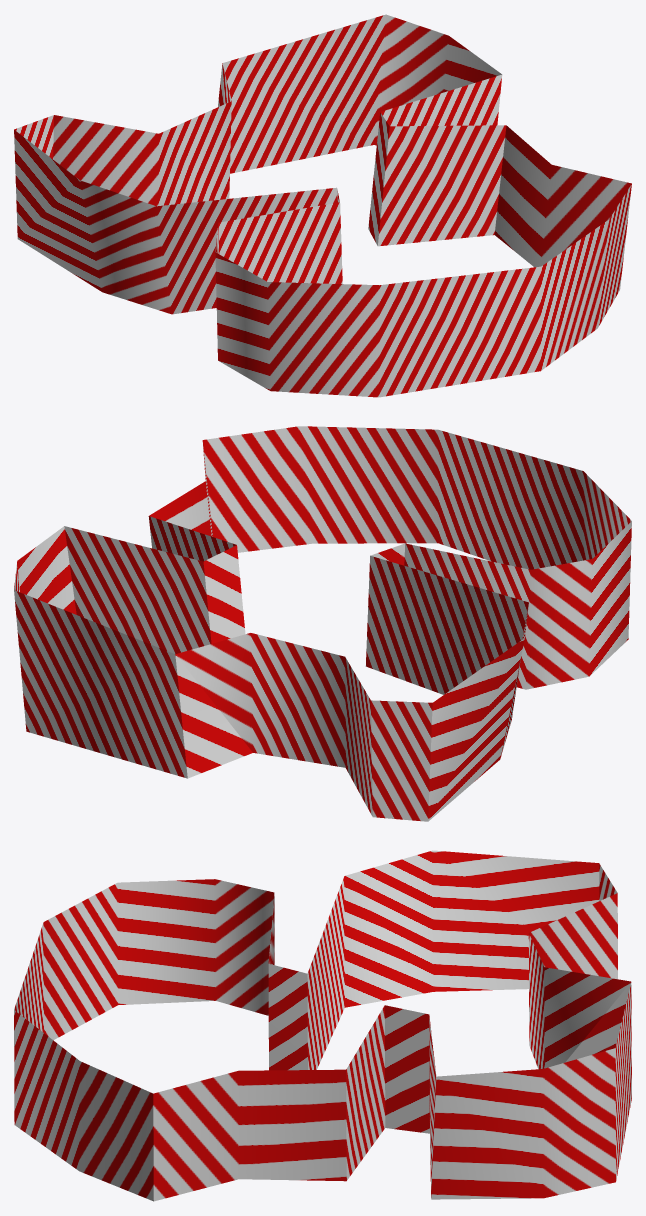
Rendered from wall.fbx.
3 views of the same model, one above another, from view 1: azimuth 30°, elevation 25°; view 2: azimuth 150°, elevation 25°; view 3: azimuth 270°, elevation 25° (orthographic). The views are drawn at different scales.
Parts seen in each view (by area): view 1: obj2; view 2: obj2; view 3: obj2.
Boxes of the visible parts, x1,y1,x2,y2 form: obj2: (14,14,631,397); obj2: (14,426,631,821); obj2: (14,850,631,1201).
Size of the model in its own units: 3358 by 965 by 3847.
Materials: 1 (1 with a texture image).
